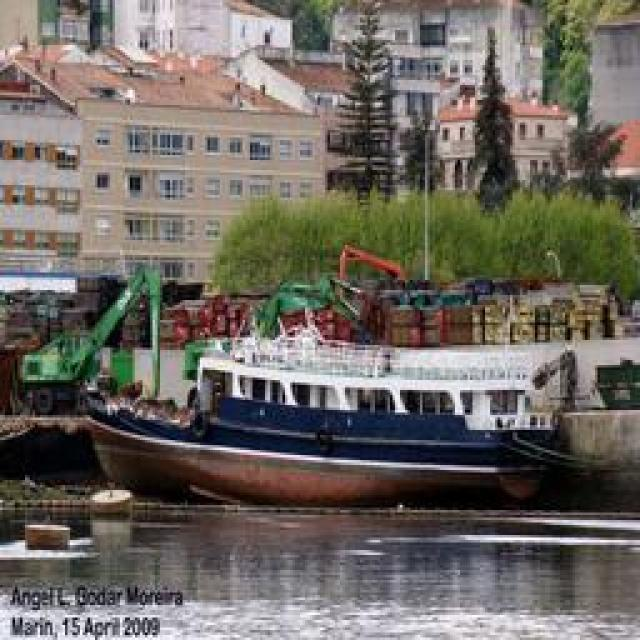CIV_Ship: (108, 361, 570, 504)
